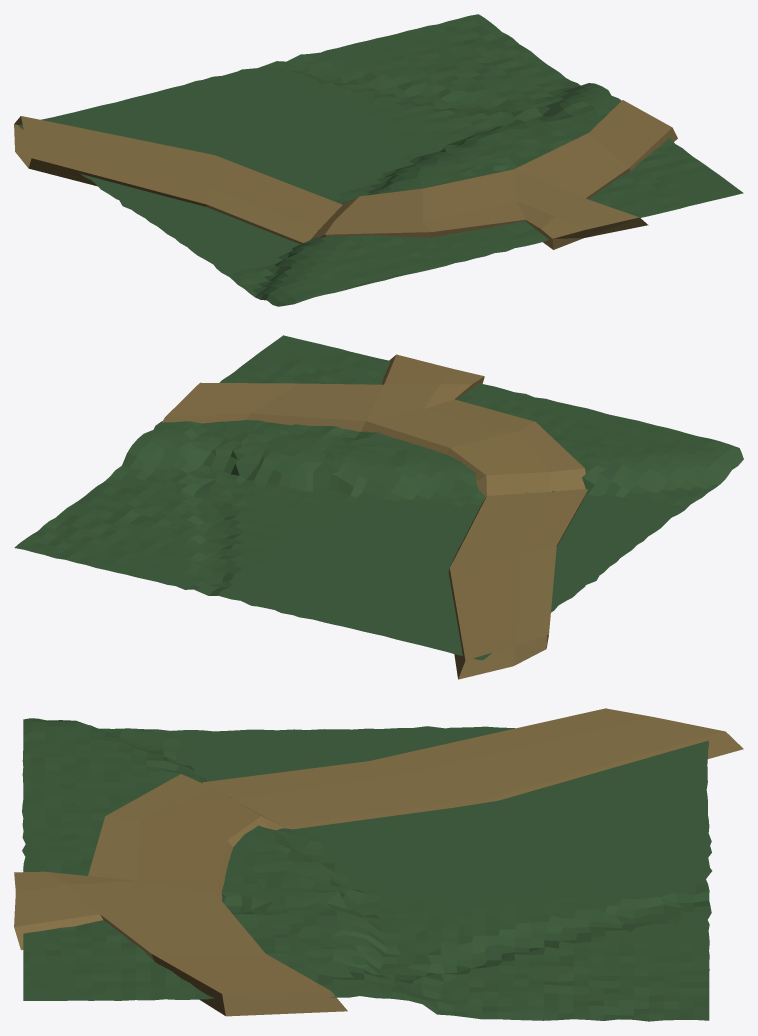
Rendered from athili_copse_section16.glb.
3 views of the same model, one above another, from view 1: azimuth 30°, elevation 25°; view 2: azimuth 150°, elevation 25°; view 3: azimuth 270°, elevation 25° (orthographic). The views are drawn at different scales.
Visible parts, largest first — view 1: Grass, Road; view 2: Grass, Road; view 3: Grass, Road.
Boxes of the visible parts, x1,y1,x2,y2 form: Grass: [18, 14, 743, 306]; Road: [14, 100, 677, 249]; Grass: [14, 335, 743, 660]; Road: [162, 354, 588, 679]; Grass: [22, 718, 712, 1021]; Road: [14, 708, 743, 1016].
Size of the model in its own units: 64.32 by 4.17 by 62.97.
